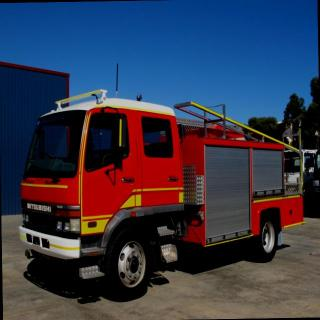Fire_truck: (15, 63, 308, 303)
